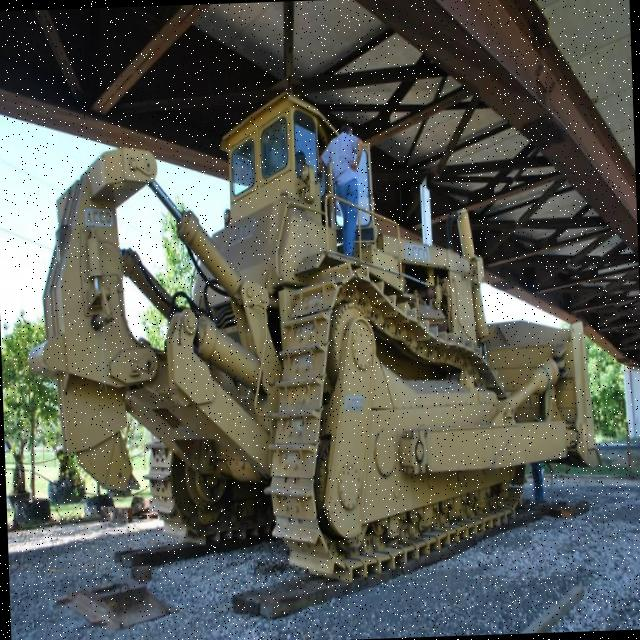Bulldozer: (36, 66, 614, 603)
